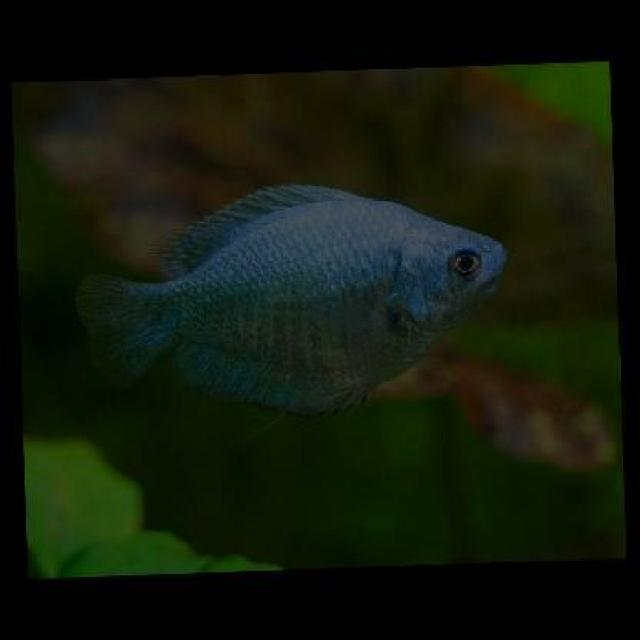Gourami: (78, 177, 510, 414)
